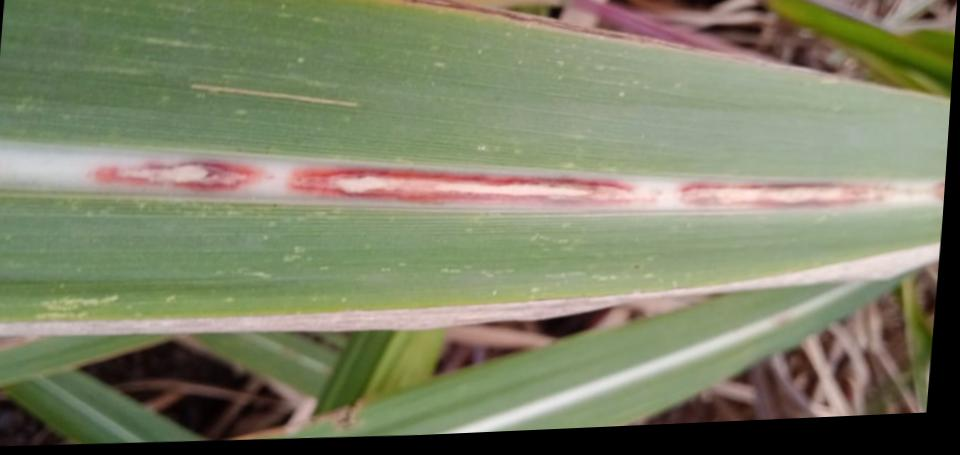RedRot: (286, 169, 657, 208), (88, 160, 272, 193), (679, 183, 887, 207), (931, 180, 944, 200)
